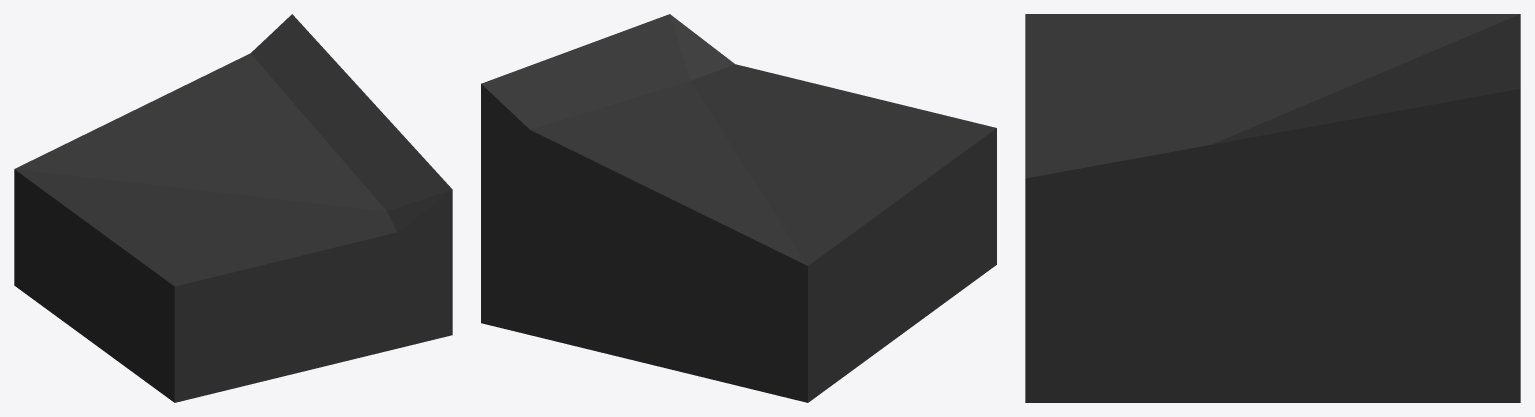
Rendered from AsfaltoCurvoOut.fbx.
The picture shows the model from 3 angles, left to right: view 1: azimuth 30°, elevation 25°; view 2: azimuth 150°, elevation 25°; view 3: azimuth 270°, elevation 25°; orthographic projection. The views are drawn at different scales.
Visible parts, largest first — view 1: AsfaltoCurvoOut; view 2: AsfaltoCurvoOut; view 3: AsfaltoCurvoOut.
Boxes of the visible parts, x1,y1,x2,y2 form: AsfaltoCurvoOut: (14,14,452,402); AsfaltoCurvoOut: (481,14,996,402); AsfaltoCurvoOut: (1025,14,1520,402).
Size of the model in its own units: 1000 by 700 by 1000.
